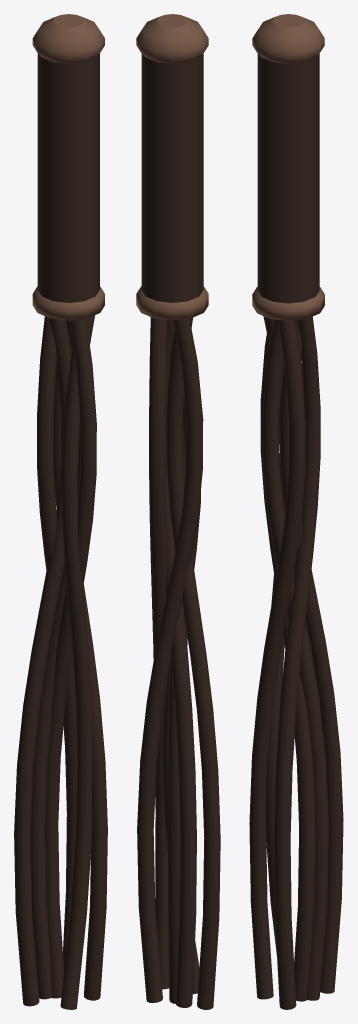
File: indianajonesbdsm.fbx
The picture shows the model from 3 angles, left to right: view 1: azimuth 90°, elevation 25°; view 2: azimuth 210°, elevation 25°; view 3: azimuth 270°, elevation 25°; orthographic projection.
Visible parts, largest first — view 1: Cylinder, BézierCurve.004, BézierCurve.006, BézierCurve.003, BézierCurve.007, BézierCurve.005, BézierCurve.001; view 2: Cylinder, BézierCurve.007, BézierCurve.006, BézierCurve.005, BézierCurve.001, BézierCurve.003, BézierCurve.004; view 3: Cylinder, BézierCurve.005, BézierCurve.007, BézierCurve.001, BézierCurve.006, BézierCurve.003, BézierCurve.004.
Boxes of the visible parts, x1=… form: Cylinder: x1=32, y1=14, x2=104, y2=320; BézierCurve.004: x1=60, y1=315, x2=94, y2=1009; BézierCurve.006: x1=14, y1=317, x2=71, y2=1006; BézierCurve.003: x1=45, y1=318, x2=96, y2=998; BézierCurve.007: x1=37, y1=316, x2=77, y2=971; BézierCurve.005: x1=53, y1=320, x2=107, y2=1000; BézierCurve.001: x1=30, y1=320, x2=80, y2=999; Cylinder: x1=136, y1=14, x2=208, y2=320; BézierCurve.007: x1=137, y1=318, x2=203, y2=1002; BézierCurve.006: x1=166, y1=317, x2=220, y2=1009; BézierCurve.005: x1=149, y1=317, x2=169, y2=989; BézierCurve.001: x1=165, y1=320, x2=196, y2=1007; BézierCurve.003: x1=167, y1=419, x2=187, y2=1003; BézierCurve.004: x1=162, y1=394, x2=200, y2=994; Cylinder: x1=252, y1=14, x2=324, y2=320; BézierCurve.005: x1=249, y1=320, x2=305, y2=999; BézierCurve.007: x1=274, y1=316, x2=320, y2=1009; BézierCurve.001: x1=262, y1=319, x2=329, y2=1000; BézierCurve.006: x1=280, y1=320, x2=343, y2=993; BézierCurve.003: x1=260, y1=334, x2=315, y2=1001; BézierCurve.004: x1=263, y1=316, x2=285, y2=954.
Bounding box in the file's own units: 8.63 × 128 × 11.18.
